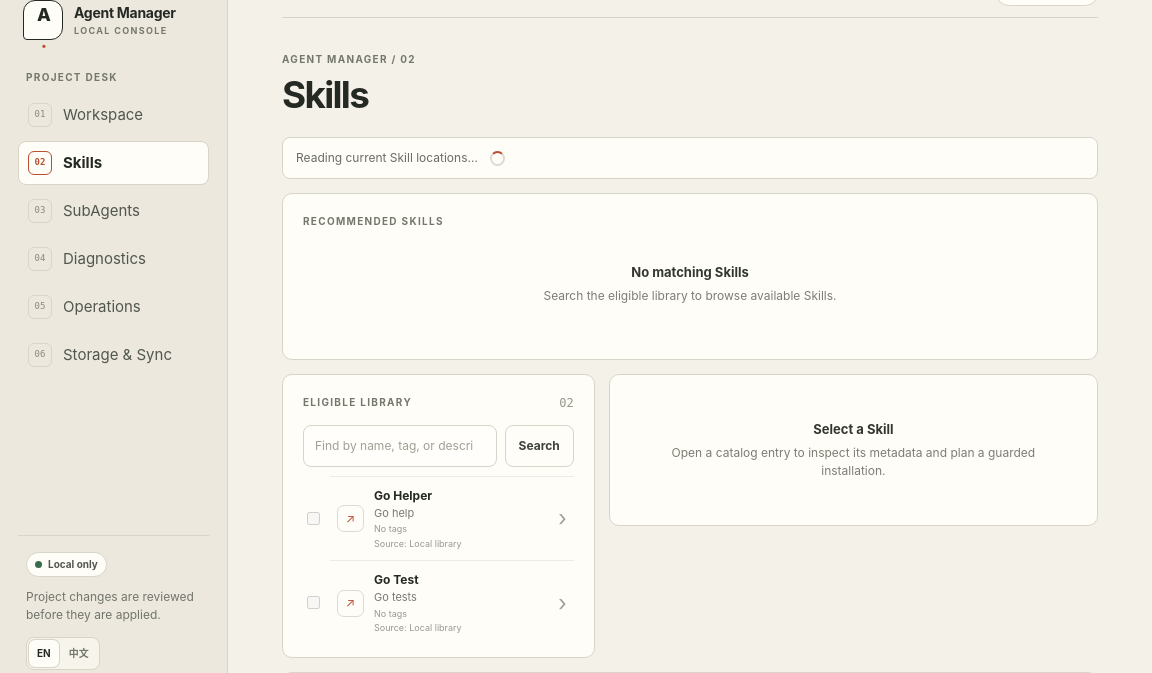
Test: console entry and guarded installation › keeps batch selection when stale preview regeneration fails
The image size is (1152, 673).
Click the checkbox named "Select go-helper": coordinates (314, 518) [307,512,320,525]
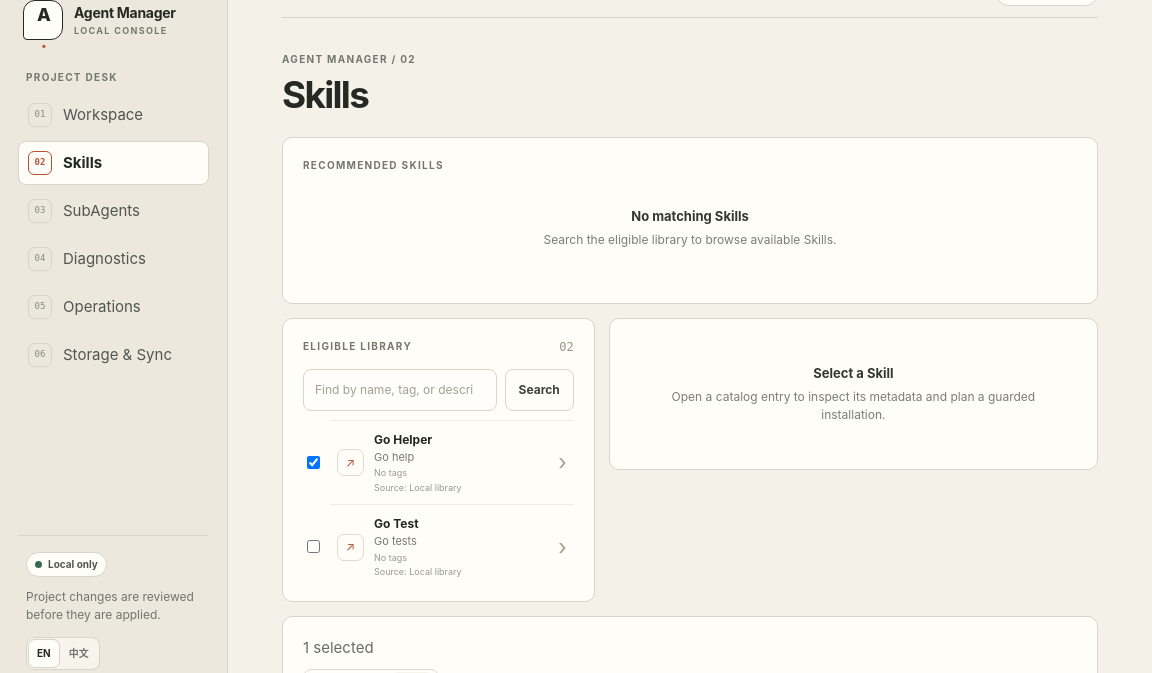
Click the checkbox named "Select go-test": coordinates (314, 547) [307,540,320,553]
(page scrolled)
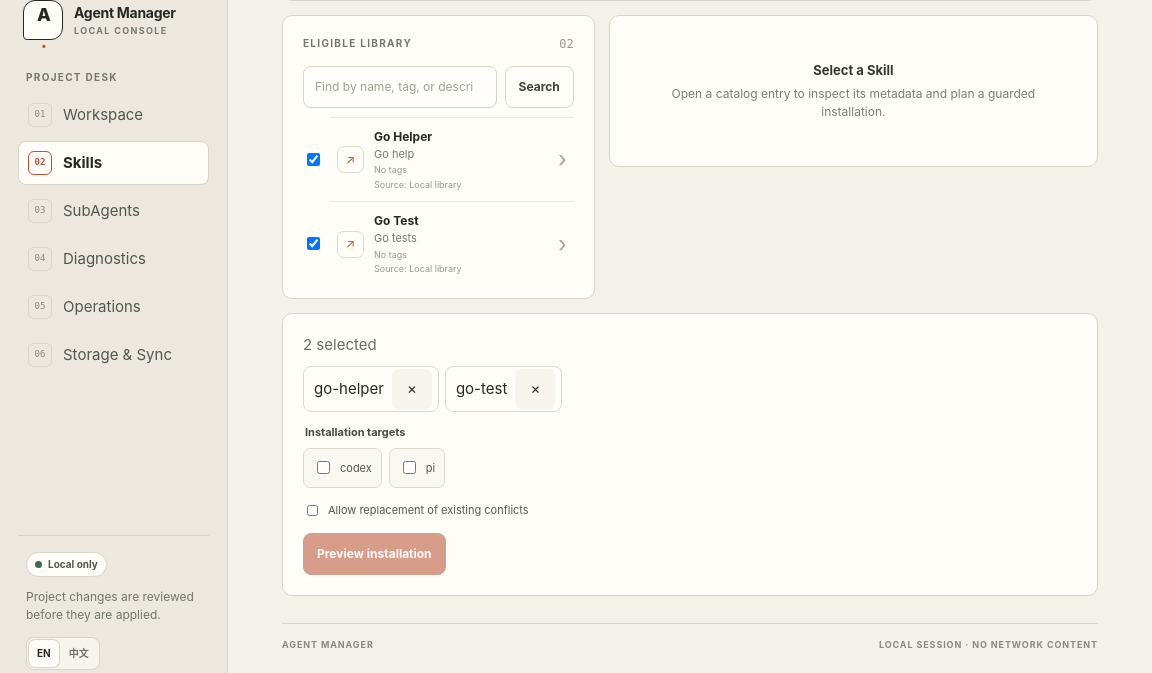
Click the checkbox labelled "pi": coordinates (409, 468) [403,461,416,474]
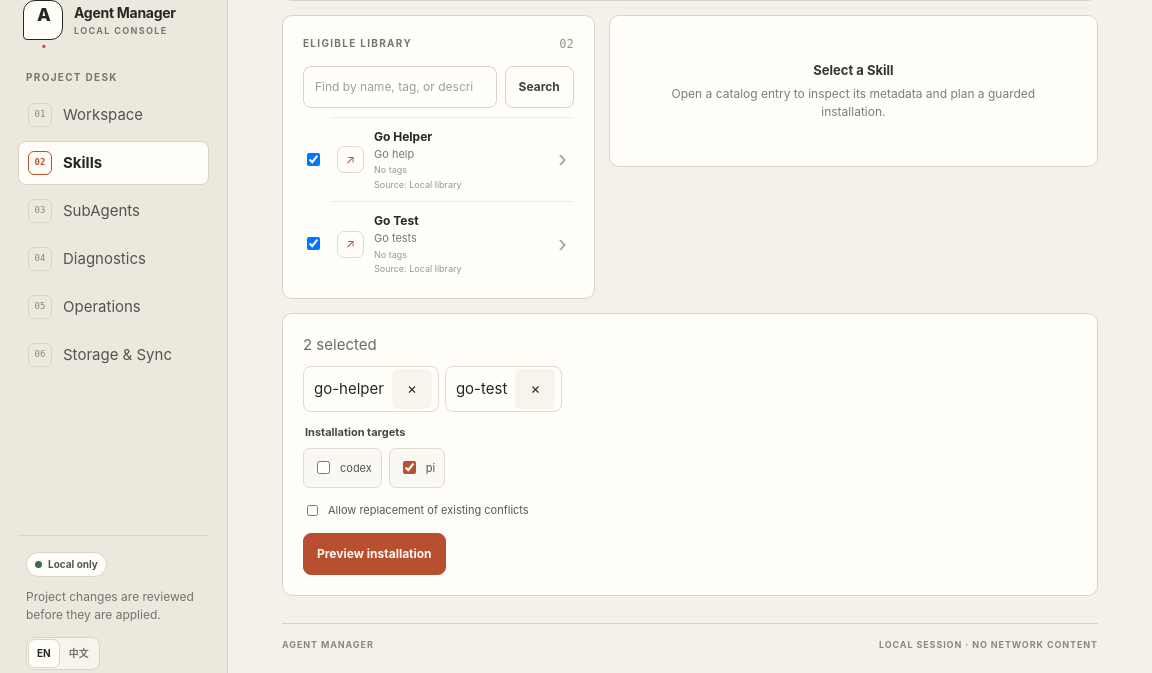
Click the button "Preview installation": coordinates (374, 554) [303,533,446,575]
(page scrolled)
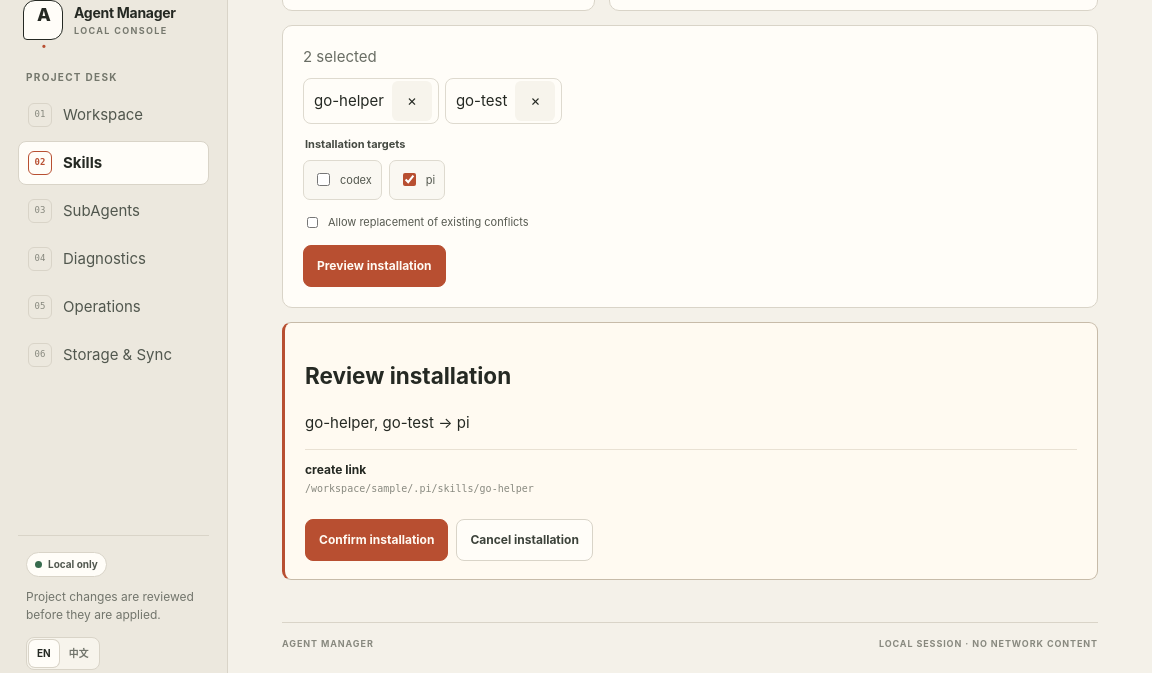
Expected: the heading "Review installation" is shown, [305,362,511,390]
Click the button "Confirm installation": coordinates (377, 540) [305,519,448,561]
(page scrolled)
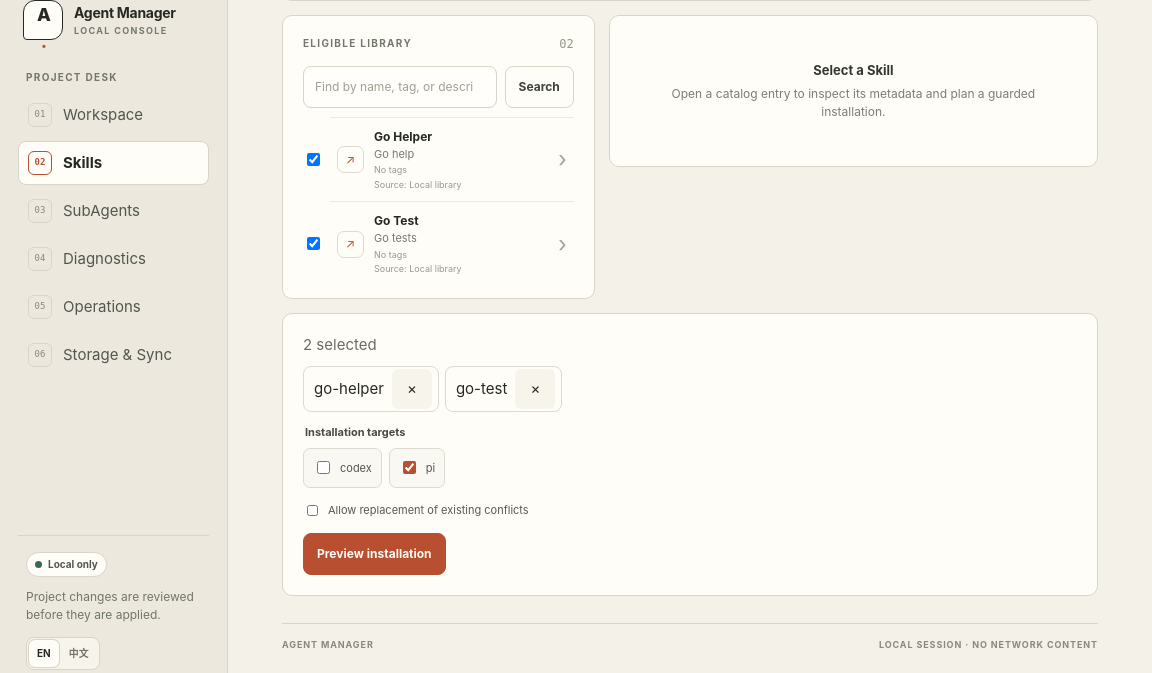
Expected: the text "2 selected" is shown, [303,335,377,354]
Expected: the button "Confirm installation" is gone
